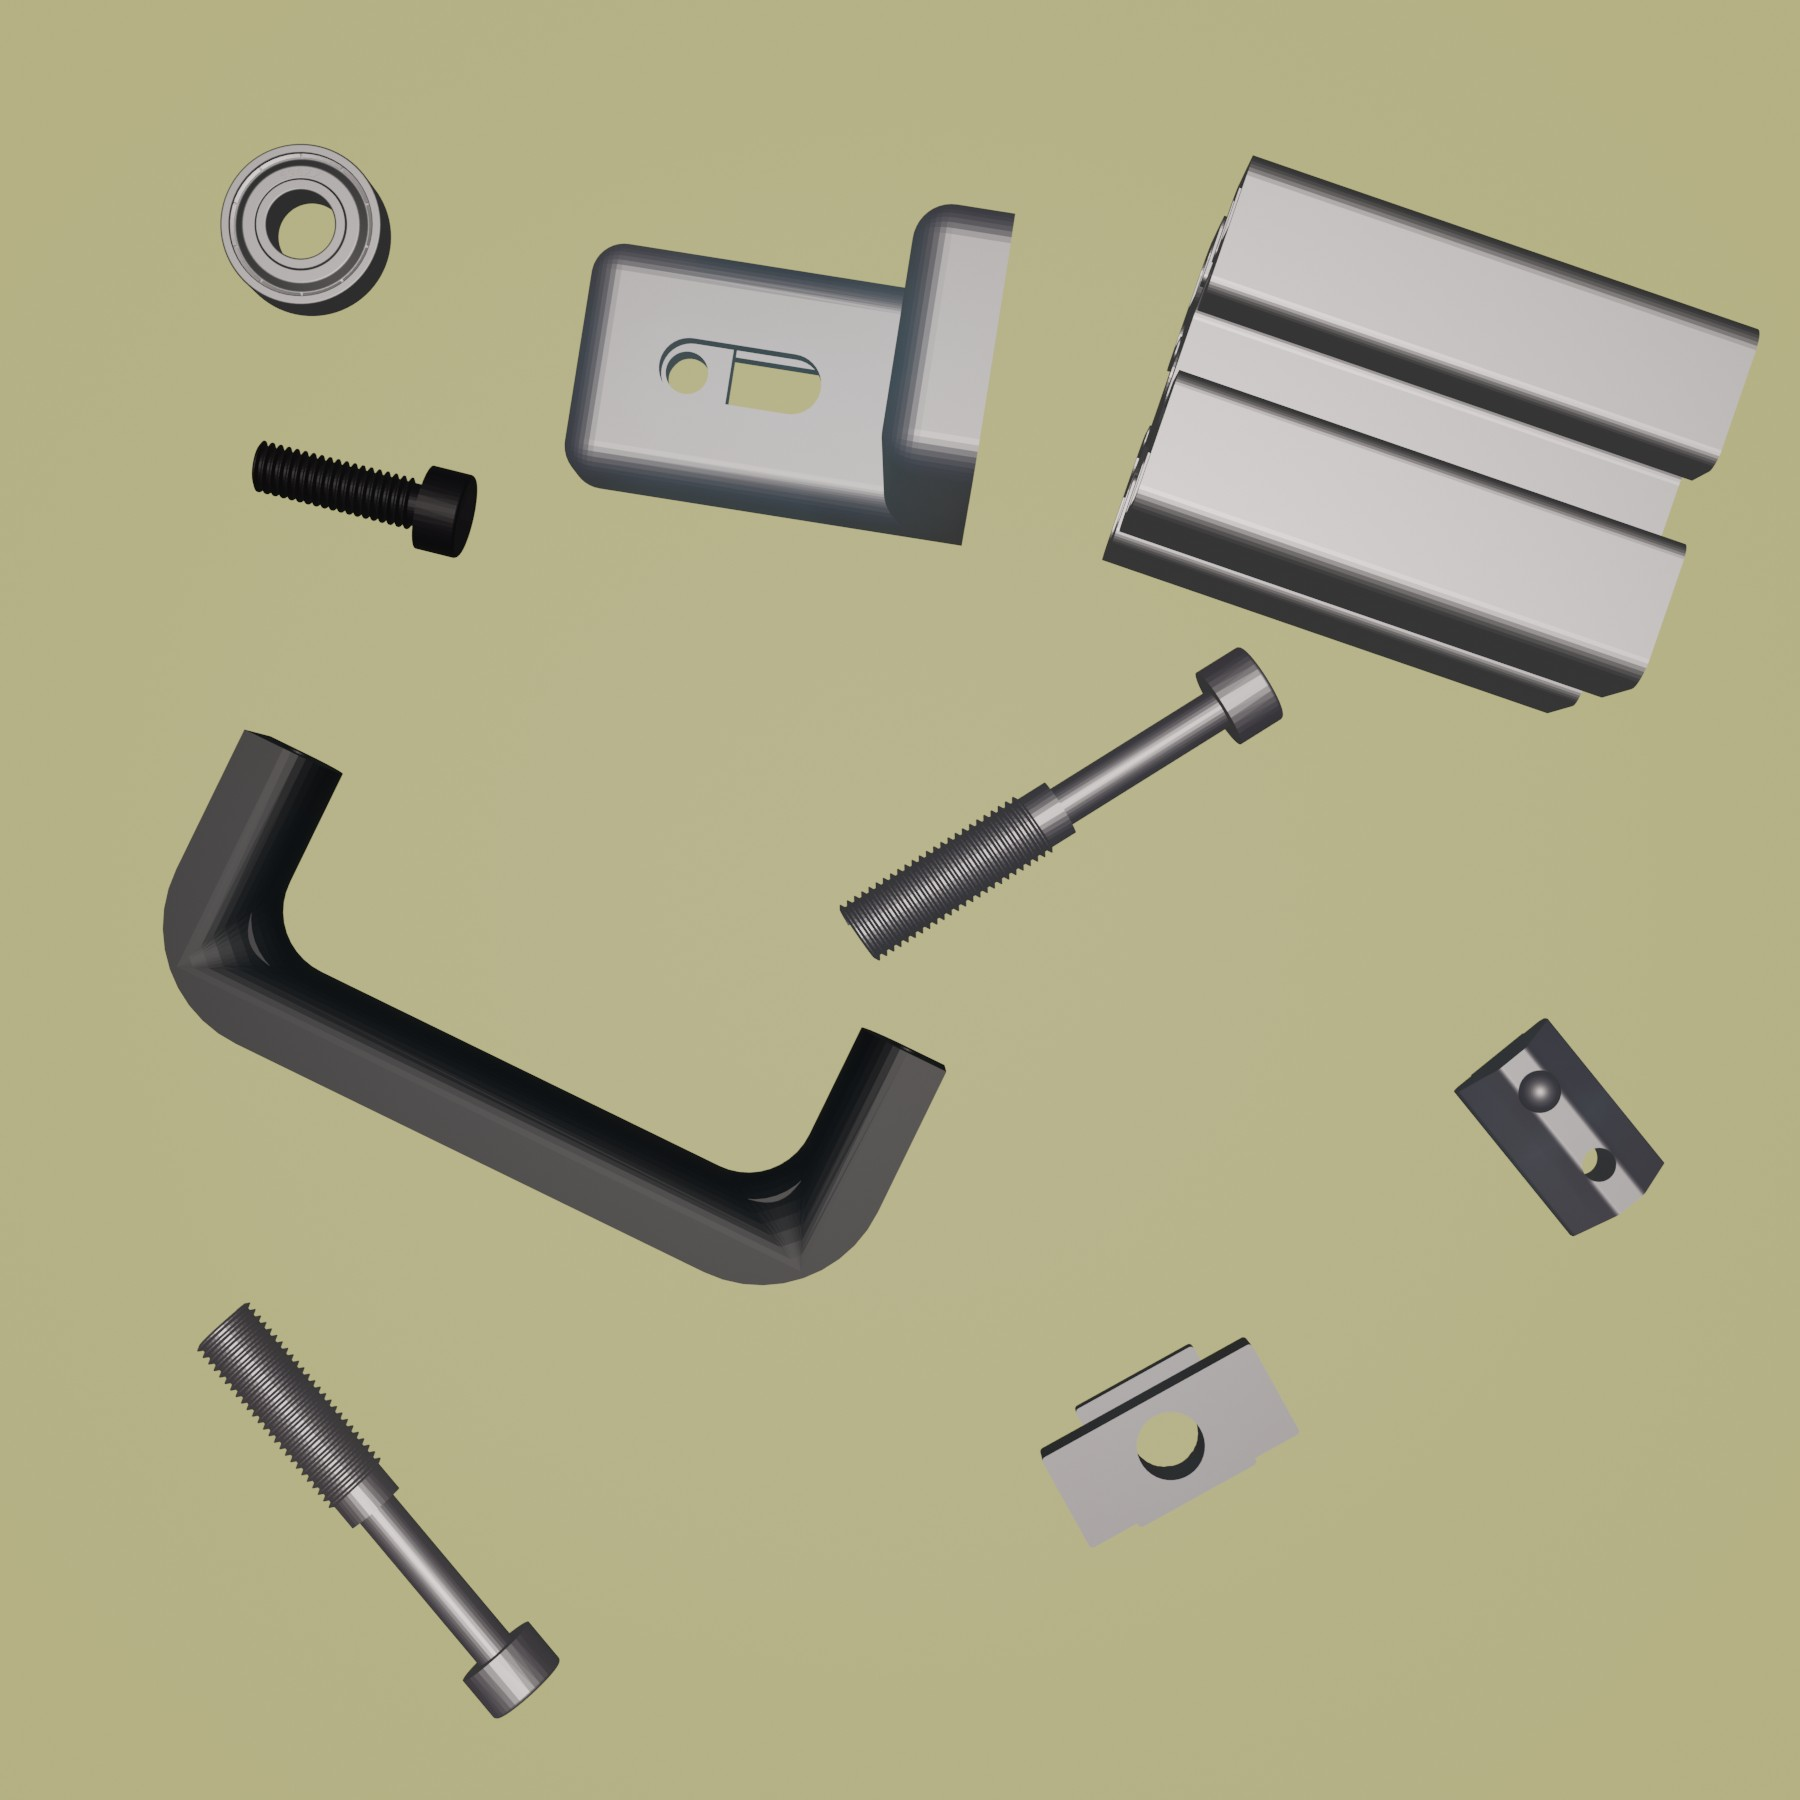Aluminium Extension: (1099, 152, 1762, 715)
Ball Bearing: (216, 138, 392, 320)
Multiwinkel: (560, 199, 1017, 551)
Pull Handle: (158, 722, 948, 1286)
Shoulder Socket Head Cap Screw: (193, 1299, 562, 1719), (837, 641, 1286, 963)
Socket Head Cap Screw: (246, 434, 480, 559)
T Nut Square: (1037, 1330, 1304, 1551)
T Spring Nut: (1447, 1014, 1665, 1238)
